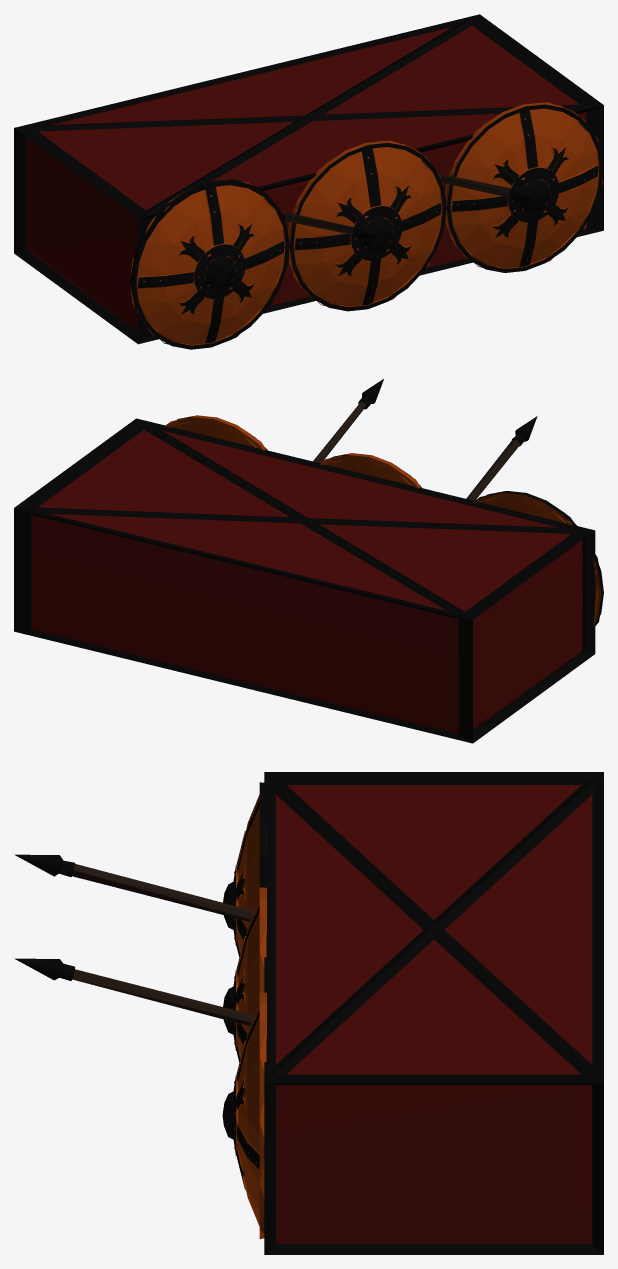
The model's file is Tarczownicy.fbx.
The picture shows the model from 3 angles, top to bottom: view 1: azimuth 30°, elevation 25°; view 2: azimuth 150°, elevation 25°; view 3: azimuth 270°, elevation 25°; orthographic projection. The views are drawn at different scales.
Visible parts, largest first — view 1: Tarczownicy; view 2: Tarczownicy; view 3: Tarczownicy.
Part boxes in pixels (<box>): Tarczownicy: <box>14,14,603,349</box>; Tarczownicy: <box>14,379,603,743</box>; Tarczownicy: <box>14,772,603,1254</box>.
Bounding box in the file's own units: 573 × 190 × 452.
